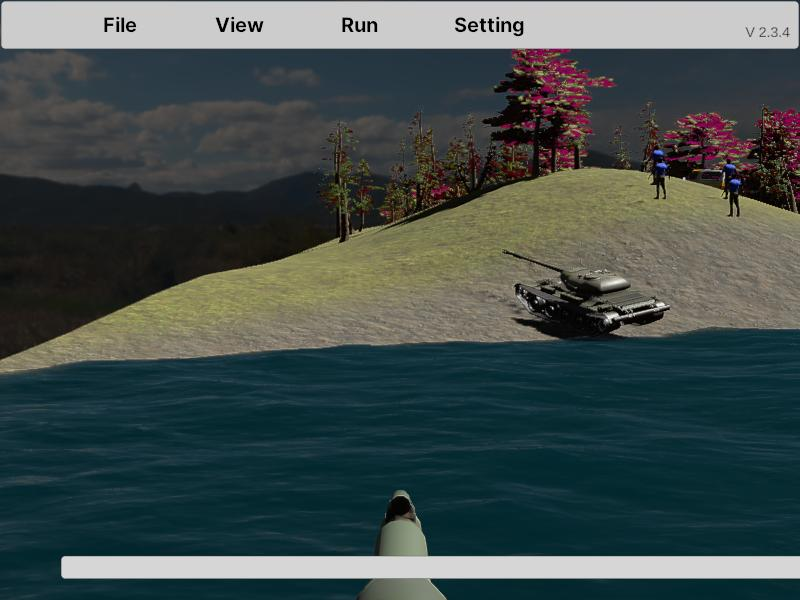Human: (723, 172, 744, 218), (718, 157, 739, 199), (650, 156, 670, 199)
Tank: (501, 249, 671, 339)
